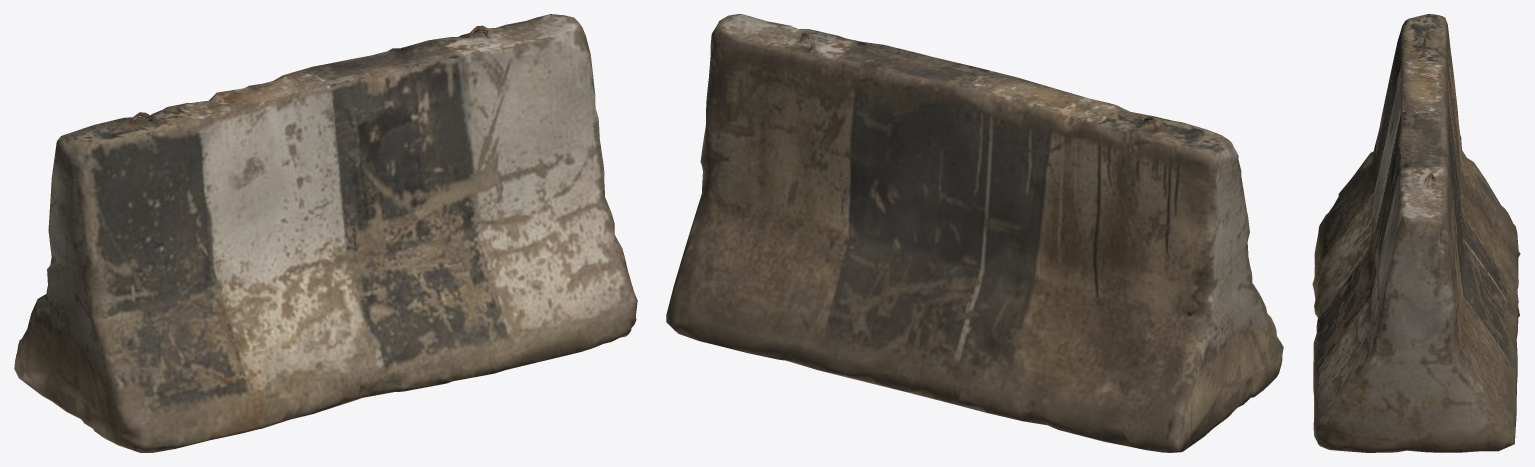
The model's file is barrier.glb.
The picture shows the model from 3 angles, left to right: view 1: azimuth 30°, elevation 25°; view 2: azimuth 150°, elevation 25°; view 3: azimuth 270°, elevation 25°; orthographic projection. The views are drawn at different scales.
Visible parts, largest first — view 1: concrete_road_barrier; view 2: concrete_road_barrier; view 3: concrete_road_barrier.
Part boxes in pixels (x1,y1,x2,y2): concrete_road_barrier: [14, 14, 637, 452]; concrete_road_barrier: [666, 14, 1283, 452]; concrete_road_barrier: [1312, 14, 1520, 452].
Size of the model in its own units: 1.54 by 0.8304 by 0.6387.
1 material, 1 textured.
